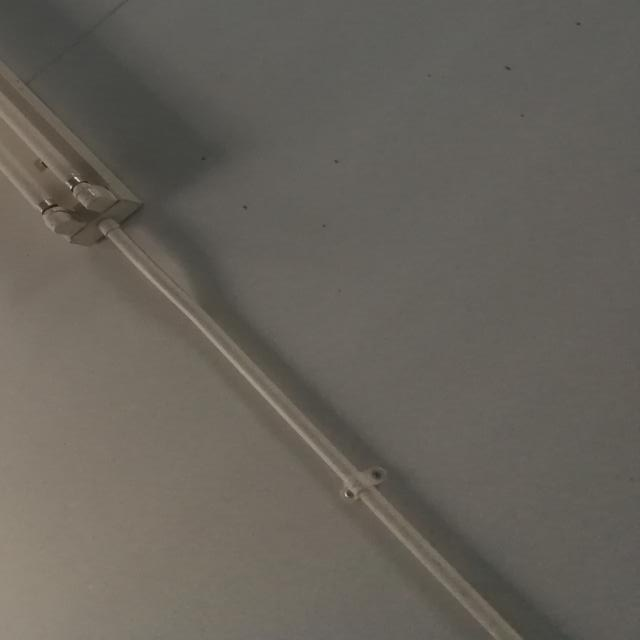fluorescent tube: (0, 0, 152, 271)
